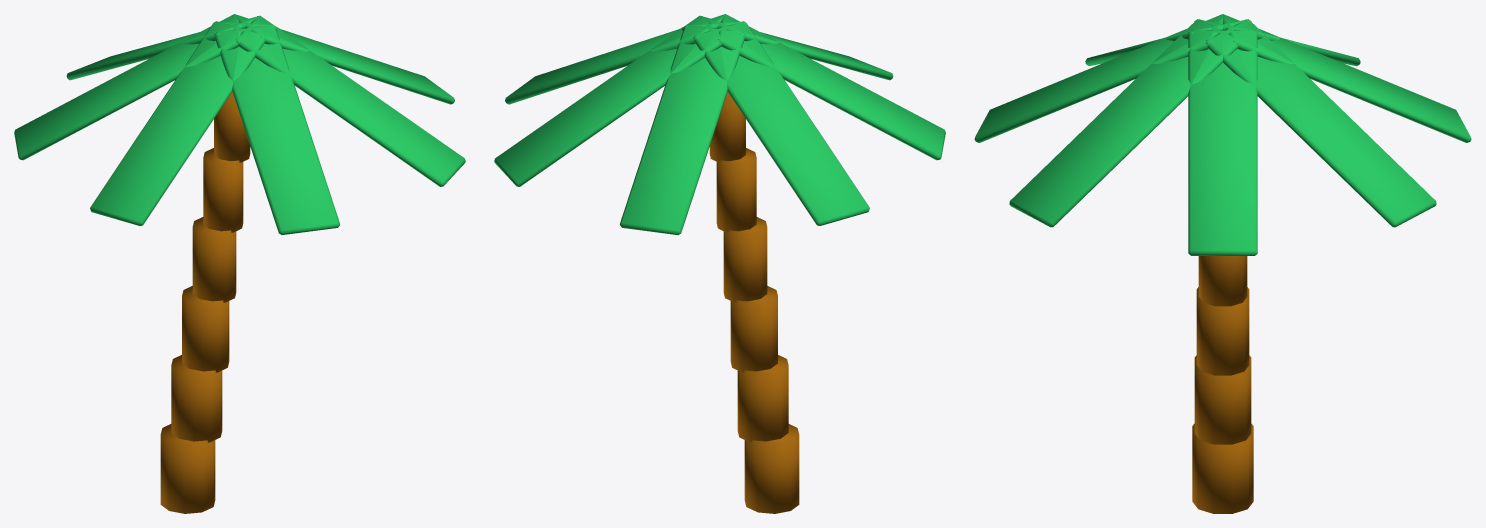
The model's file is palm.glb.
The picture shows the model from 3 angles, left to right: view 1: azimuth 30°, elevation 25°; view 2: azimuth 150°, elevation 25°; view 3: azimuth 270°, elevation 25°; orthographic projection. The views are drawn at different scales.
Visible parts, largest first — view 1: Leaf.005, Leaf.004, Leaf.006, Leaf.003, Seg, Seg.001, Seg.002, Leaf, Seg.003, Seg.004, Seg.005, Leaf.002; view 2: Leaf.002, Leaf.003, Leaf.001, Leaf.004, Seg, Seg.001, Seg.002, Leaf, Seg.003, Seg.004, Seg.005, Leaf.005; view 3: Leaf, Leaf.001, Leaf.006, Leaf.002, Leaf.005, Seg, Seg.001, Seg.002, Seg.003, Leaf.003, Leaf.004.
Part boxes in pixels (bbox=[...]): Leaf.005: bbox=[214, 25, 339, 234]; Leaf.004: bbox=[90, 21, 266, 225]; Leaf.006: bbox=[236, 15, 465, 186]; Leaf.003: bbox=[14, 14, 241, 160]; Seg: bbox=[160, 424, 215, 513]; Seg.001: bbox=[171, 355, 222, 442]; Seg.002: bbox=[182, 286, 229, 372]; Leaf: bbox=[231, 14, 454, 104]; Seg.003: bbox=[192, 217, 236, 302]; Seg.004: bbox=[203, 148, 243, 232]; Seg.005: bbox=[214, 92, 250, 162]; Leaf.002: bbox=[66, 15, 262, 80]; Leaf.002: bbox=[620, 25, 745, 234]; Leaf.003: bbox=[693, 21, 869, 225]; Leaf.001: bbox=[494, 15, 723, 186]; Leaf.004: bbox=[718, 14, 945, 160]; Seg: bbox=[744, 424, 799, 513]; Seg.001: bbox=[737, 355, 788, 442]; Seg.002: bbox=[730, 286, 777, 372]; Leaf: bbox=[505, 14, 728, 104]; Seg.003: bbox=[723, 217, 767, 302]; Seg.004: bbox=[716, 148, 756, 232]; Seg.005: bbox=[709, 92, 745, 162]; Leaf.005: bbox=[697, 15, 893, 80]; Leaf: bbox=[1188, 30, 1257, 255]; Leaf.001: bbox=[1206, 19, 1436, 227]; Leaf.006: bbox=[1009, 19, 1239, 227]; Leaf.002: bbox=[1219, 14, 1471, 142]; Leaf.005: bbox=[974, 14, 1226, 142]; Seg: bbox=[1192, 423, 1253, 513]; Seg.001: bbox=[1194, 355, 1251, 444]; Seg.002: bbox=[1196, 287, 1249, 375]; Seg.003: bbox=[1198, 256, 1247, 306]; Leaf.003: bbox=[1194, 19, 1360, 66]; Leaf.004: bbox=[1085, 19, 1251, 66].
Bounding box in the file's own units: 3.49 × 4 × 3.58.
